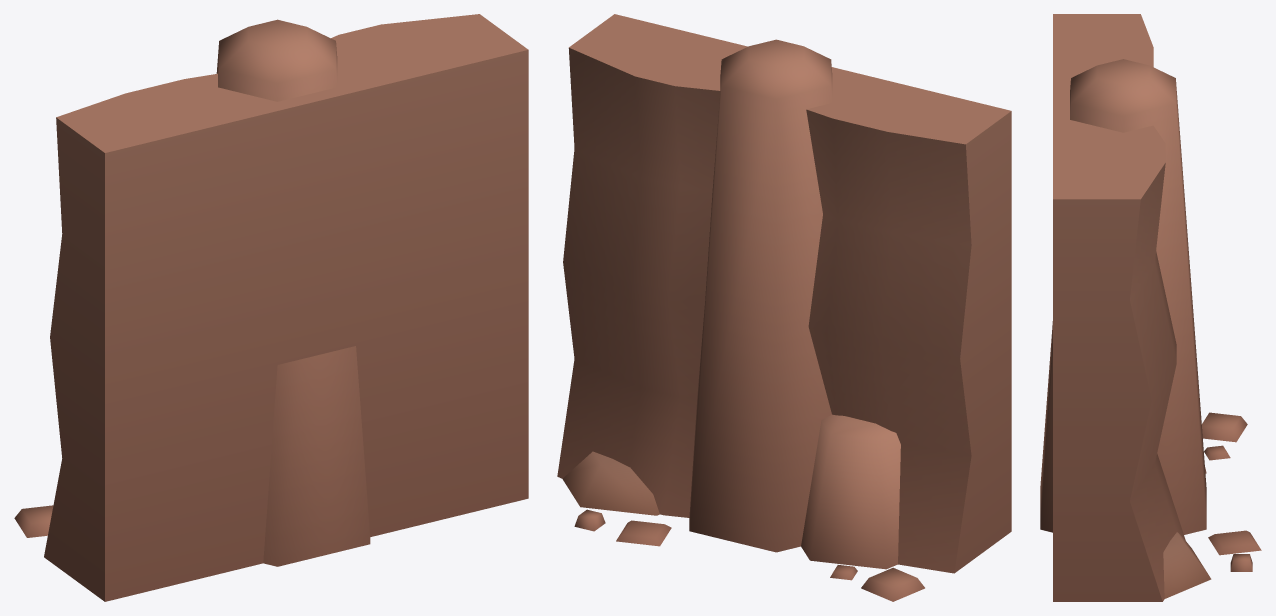
The model's file is template-wall-detail-a.glb.
3 renders of one model, left to right at view 1: azimuth 30°, elevation 25°; view 2: azimuth 150°, elevation 25°; view 3: azimuth 270°, elevation 25°, orthographic. The views are drawn at different scales.
Visible parts, largest first — view 1: template-wall-detail-a; view 2: template-wall-detail-a; view 3: template-wall-detail-a.
Part boxes in pixels (x1,y1,x2,y2): template-wall-detail-a: [14, 14, 528, 601]; template-wall-detail-a: [557, 14, 1011, 601]; template-wall-detail-a: [1040, 14, 1261, 601].
Size of the model in its own units: 4 by 4.4 by 2.02.
Materials: 1 (1 with a texture image).
